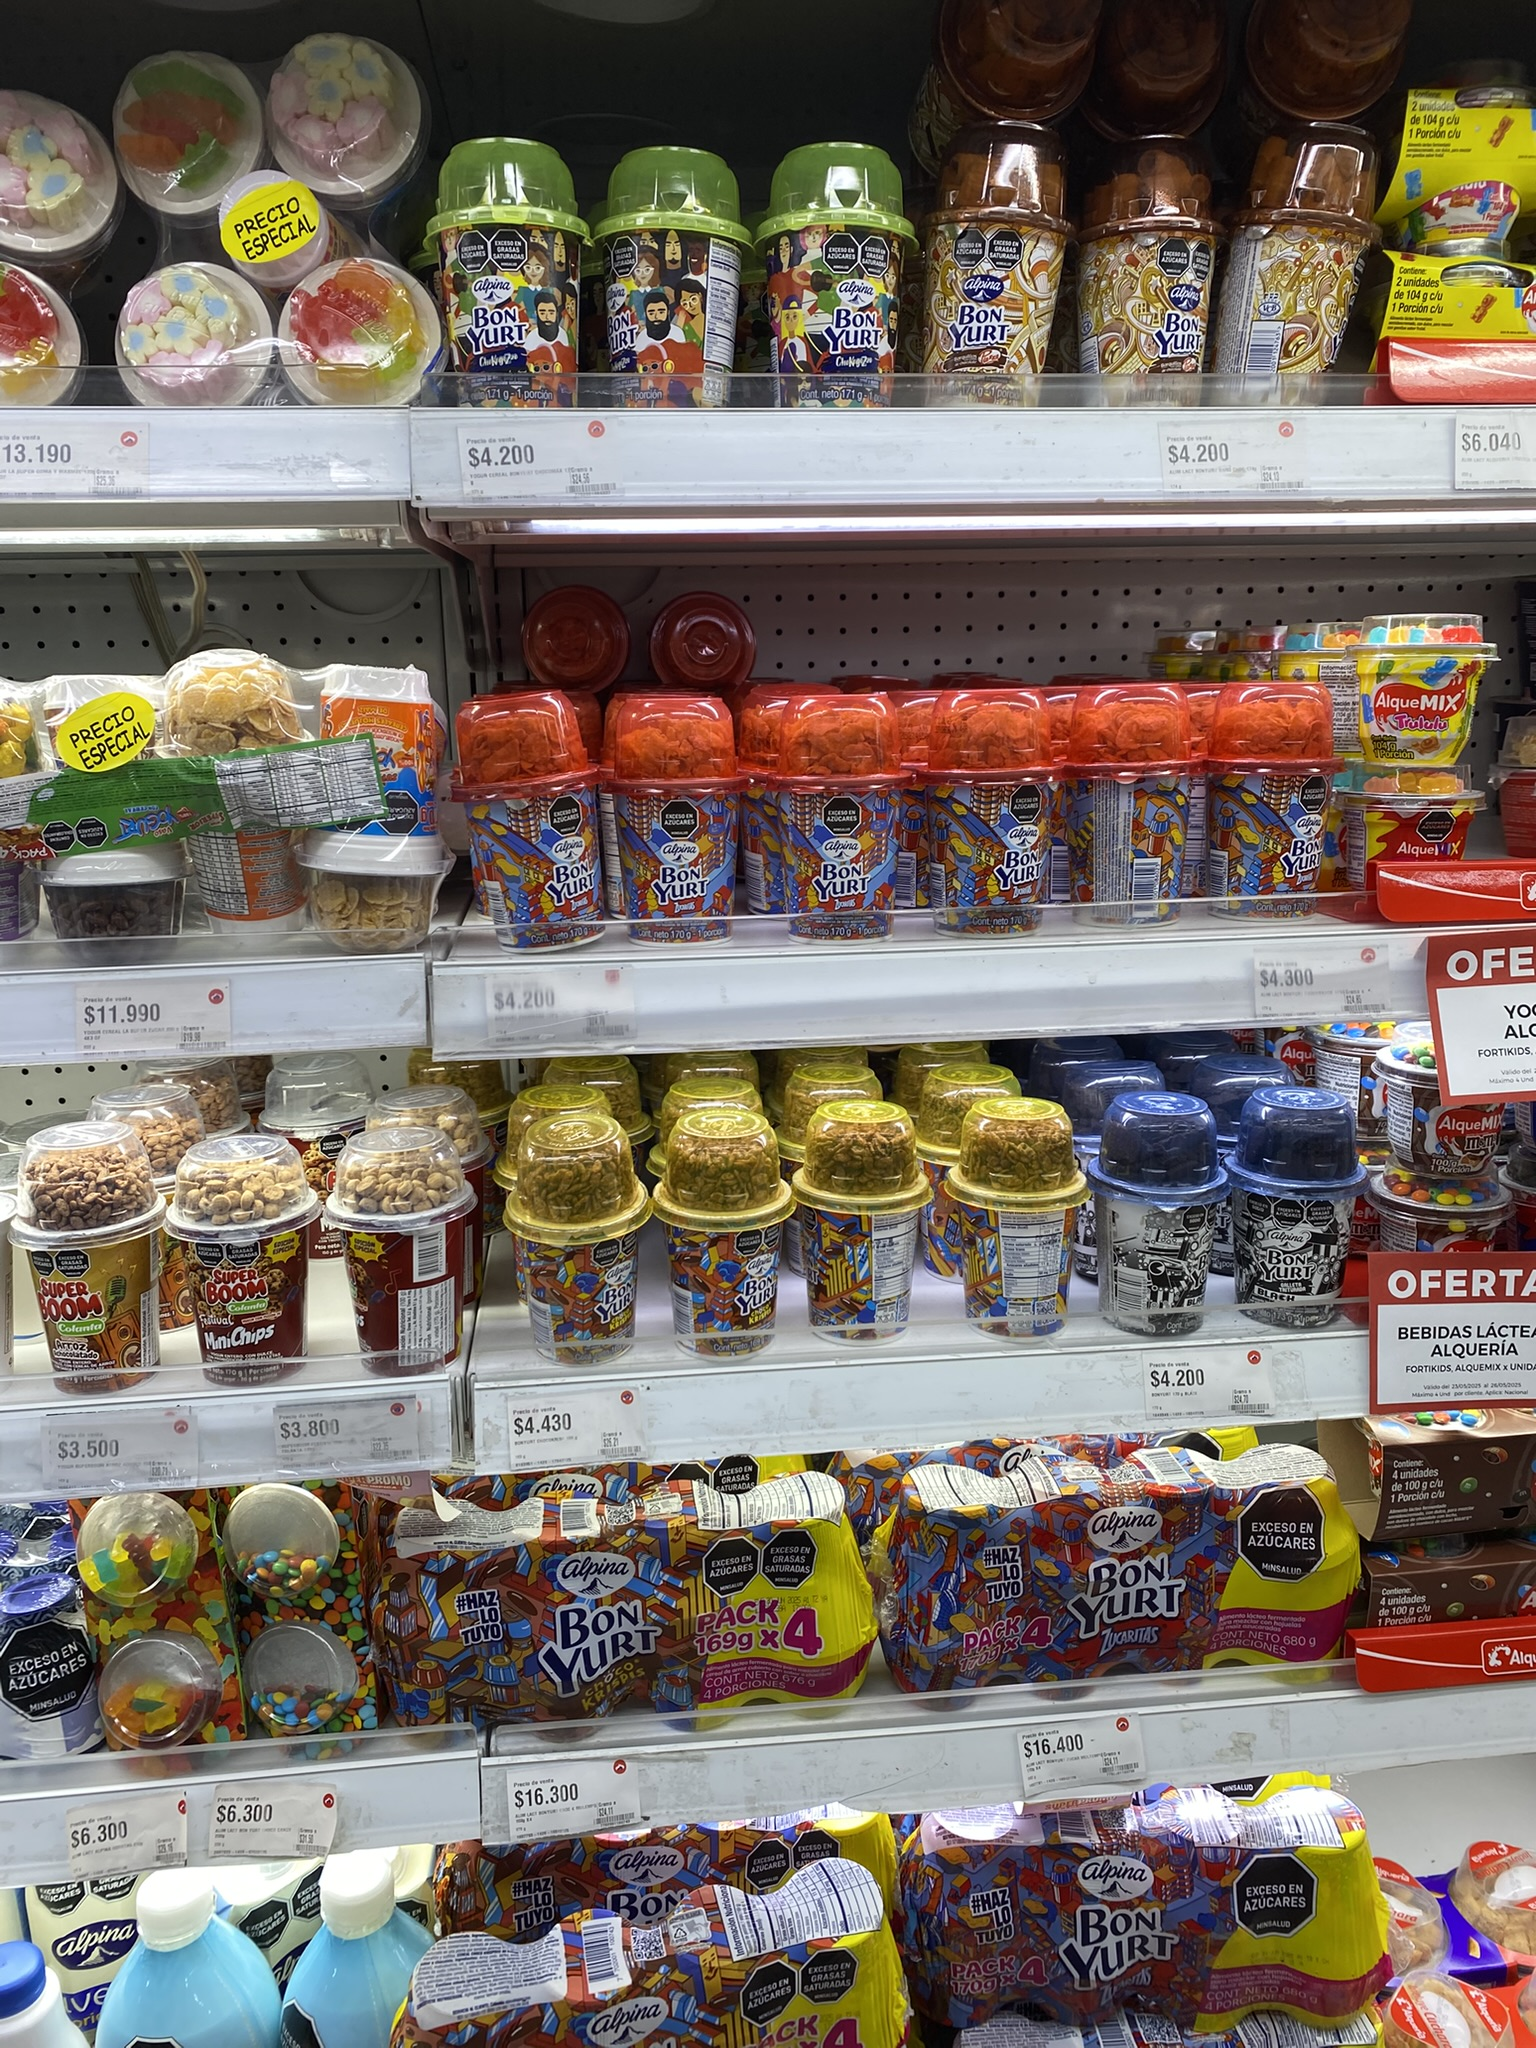BonYurt: (429, 692, 603, 939), (929, 687, 1081, 924), (768, 689, 920, 919), (610, 692, 755, 924), (1081, 687, 1225, 906), (962, 1092, 1086, 1327), (508, 1118, 641, 1338), (805, 1095, 928, 1330), (665, 1108, 779, 1355), (1221, 687, 1341, 906)
